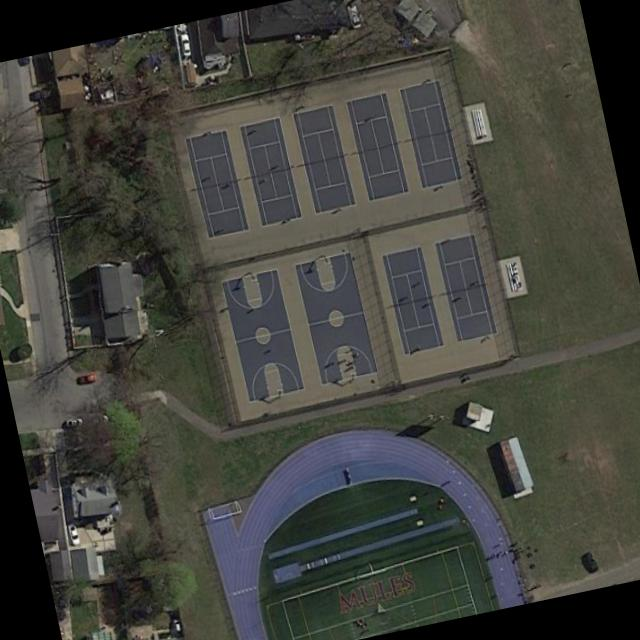small-vehicle: (344, 3, 360, 27), (25, 85, 50, 100), (65, 519, 78, 545), (177, 30, 190, 55), (74, 371, 96, 384), (169, 616, 181, 633), (63, 416, 81, 426)
